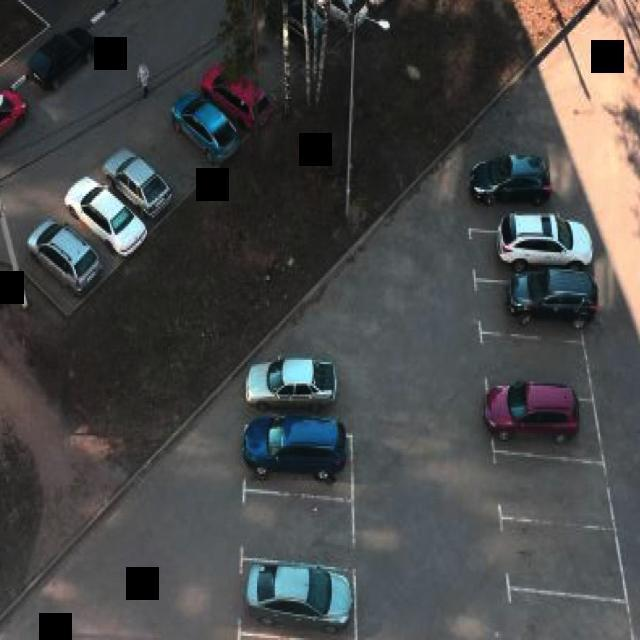car: (17, 216, 106, 307), (236, 566, 354, 628), (68, 182, 144, 264), (247, 432, 354, 490), (97, 138, 168, 218), (196, 52, 268, 130), (170, 87, 236, 169), (482, 282, 582, 336), (498, 394, 592, 450), (263, 0, 345, 62), (476, 222, 574, 272), (295, 0, 370, 39)
free: (238, 498, 354, 556), (512, 526, 616, 588), (509, 461, 604, 517), (518, 593, 624, 640), (492, 338, 588, 388), (134, 119, 198, 190), (241, 26, 299, 94)
